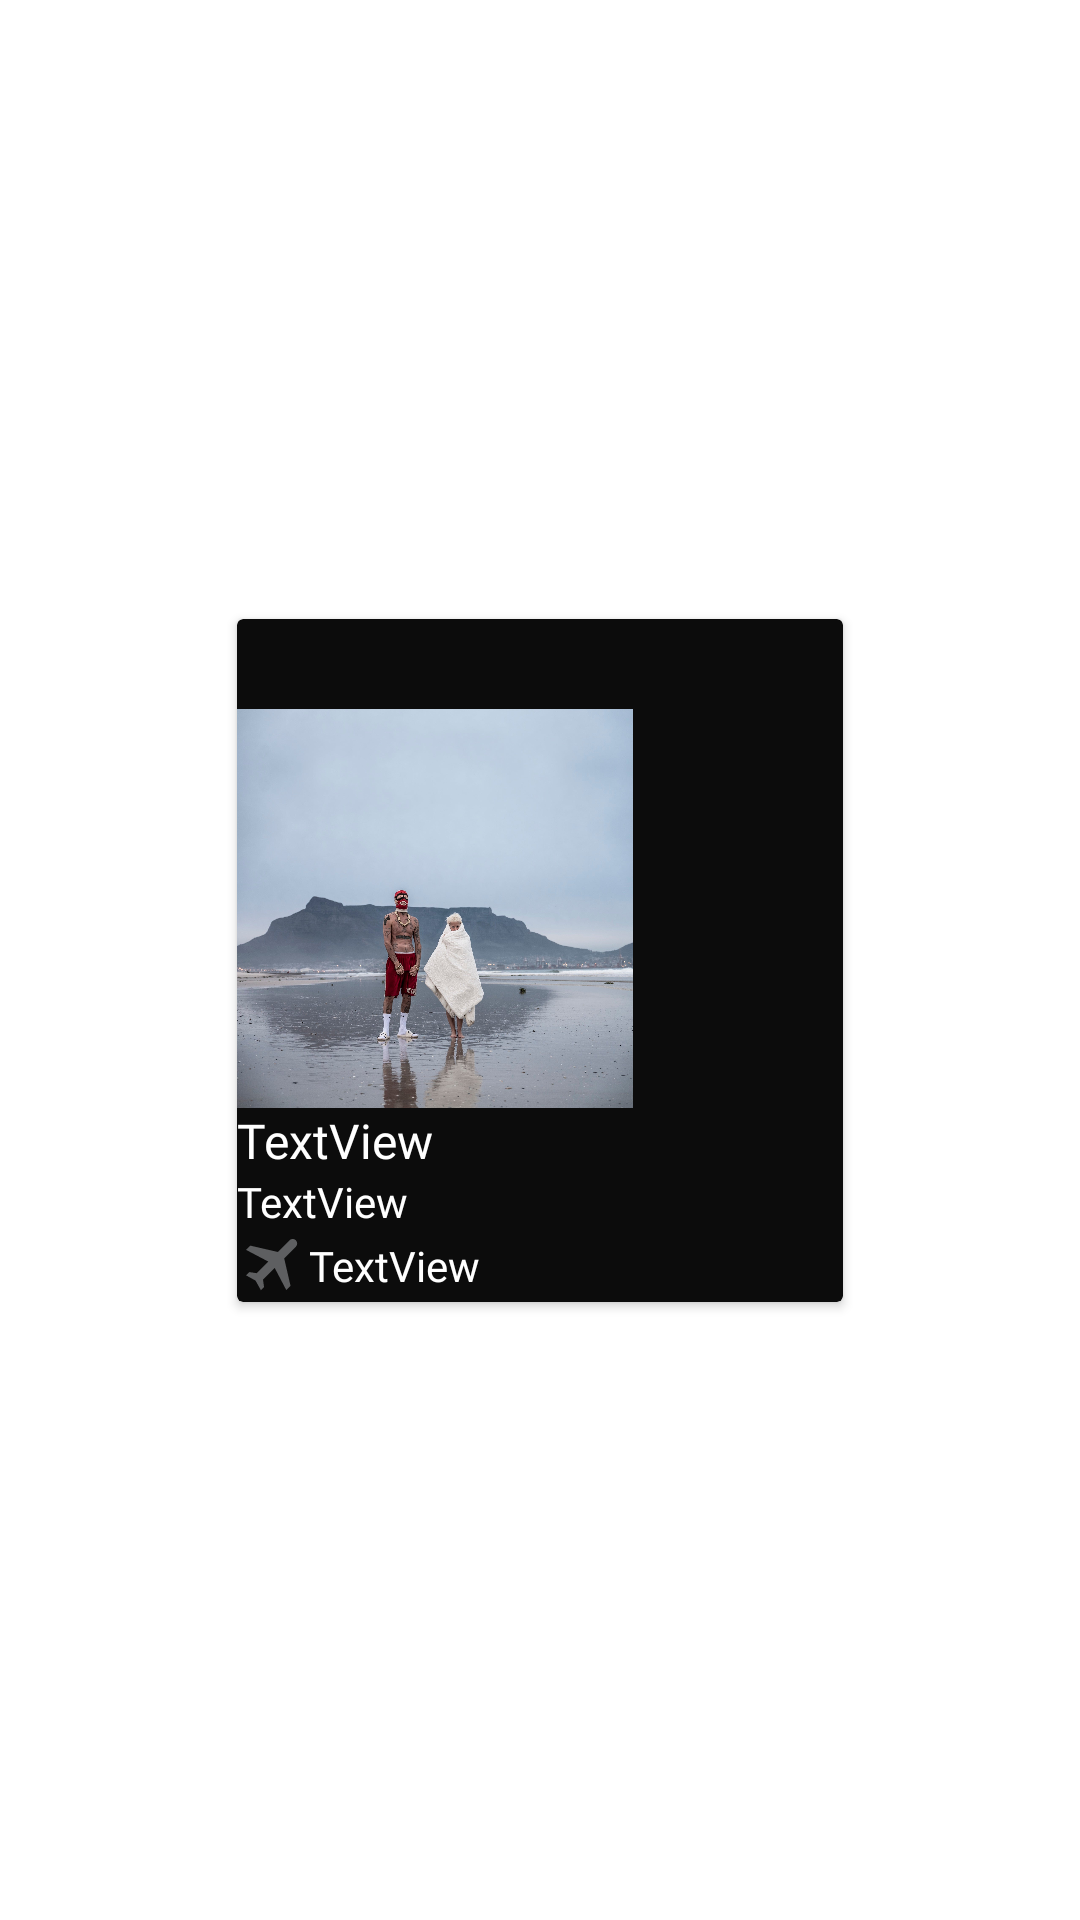

Screen size 1080 × 1920. Icon name, then its box in pixels as (x1, y1, x2, y2):
aviatickets: (246, 1239, 297, 1290)
